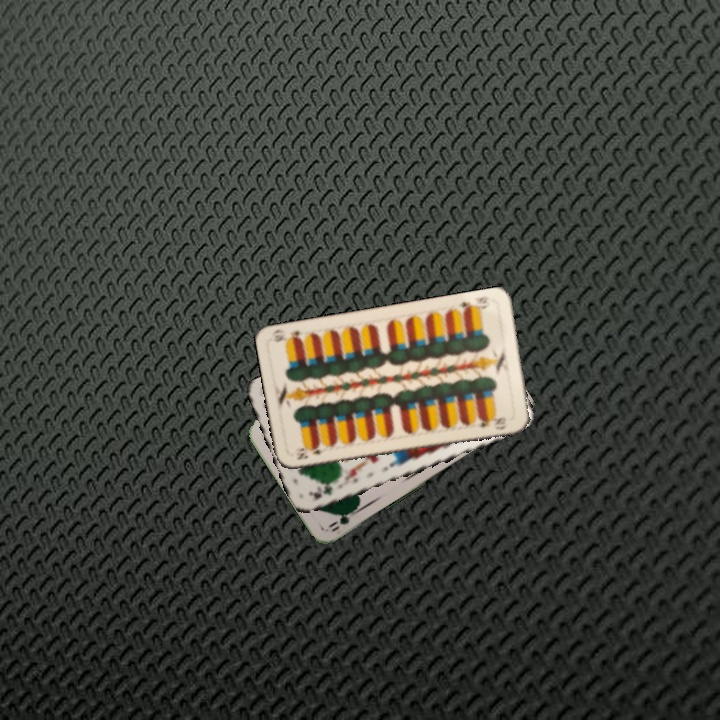E10: (455, 292, 492, 316), (293, 443, 330, 462)
GK: (304, 482, 336, 502)
GO: (324, 504, 362, 535)
